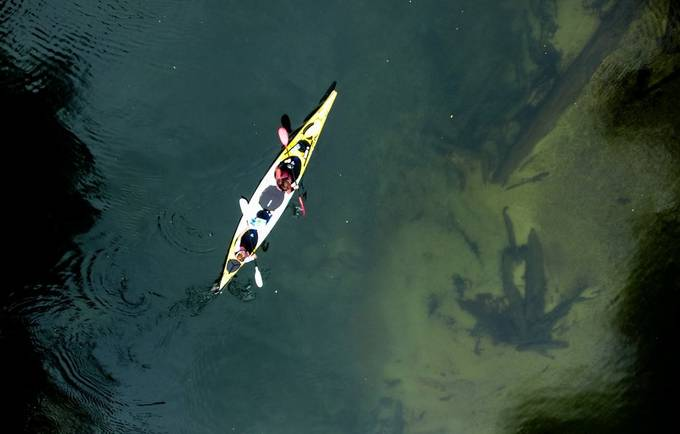kayaker: (217, 90, 339, 293)
